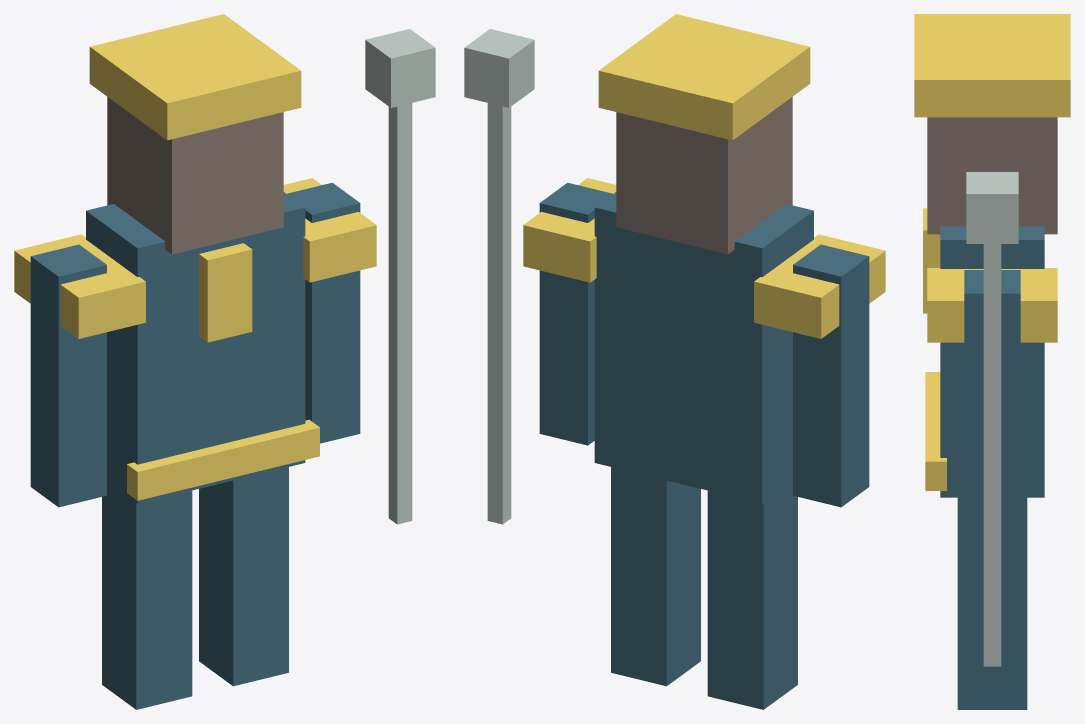
The model's file is 02_lyric_holloway_medic_under_hammer.glb.
The picture shows the model from 3 angles, left to right: view 1: azimuth 30°, elevation 25°; view 2: azimuth 150°, elevation 25°; view 3: azimuth 270°, elevation 25°; orthographic projection.
Visible parts, largest first — view 1: Lyric Holloway, Medic under Hammer; view 2: Lyric Holloway, Medic under Hammer; view 3: Lyric Holloway, Medic under Hammer.
Boxes of the visible parts, x1,y1,x2,y2 form: Lyric Holloway, Medic under Hammer: [14, 14, 435, 709]; Lyric Holloway, Medic under Hammer: [464, 14, 885, 709]; Lyric Holloway, Medic under Hammer: [914, 14, 1070, 709].
Size of the model in its own units: 0.9529 by 1.49 by 0.338.
